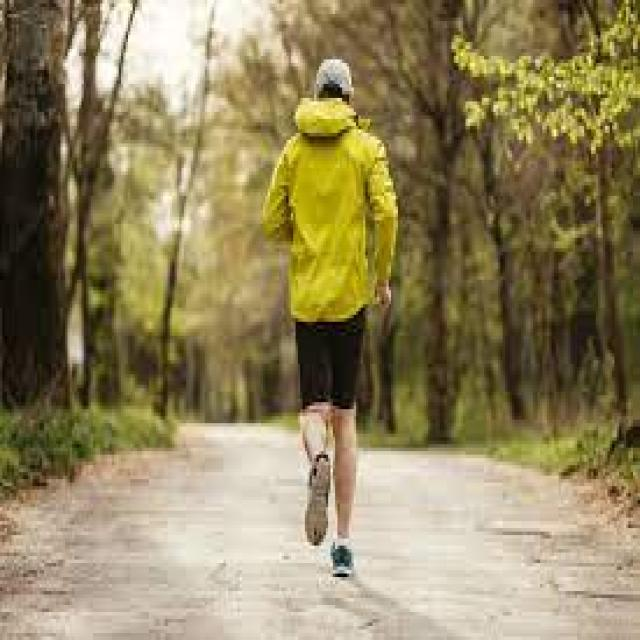Person: (263, 58, 399, 579)
